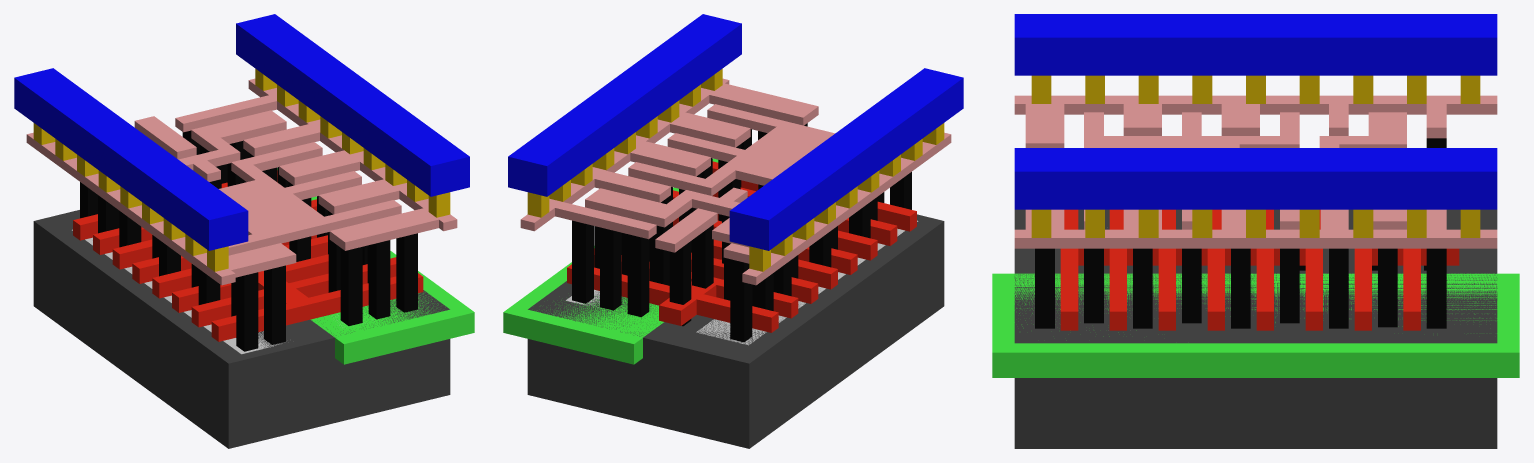
File: sky130_fd_sc_hd__buf_6.obj
3 renders of one model, left to right at view 1: azimuth 30°, elevation 25°; view 2: azimuth 150°, elevation 25°; view 3: azimuth 270°, elevation 25°, orthographic. The views are drawn at different scales.
Parts seen in each view (by area): view 1: subs, metal1, li, licon, poly, nwell, mcon, diff; view 2: subs, metal1, li, licon, poly, nwell, mcon, diff; view 3: metal1, subs, li, nwell, poly, licon, mcon.
Boxes of the visible parts, bbox=[...] form: subs: bbox=[33, 210, 450, 448]; metal1: bbox=[14, 14, 469, 250]; li: bbox=[26, 78, 457, 285]; licon: bbox=[80, 130, 417, 351]; poly: bbox=[73, 170, 423, 341]; nwell: bbox=[277, 168, 474, 364]; mcon: bbox=[33, 68, 450, 271]; diff: bbox=[72, 229, 282, 354]; subs: bbox=[527, 214, 944, 448]; metal1: bbox=[508, 14, 963, 250]; li: bbox=[520, 78, 951, 285]; licon: bbox=[572, 123, 911, 342]; poly: bbox=[567, 161, 916, 332]; nwell: bbox=[503, 158, 718, 364]; mcon: bbox=[527, 68, 944, 271]; diff: bbox=[696, 220, 918, 345]; metal1: bbox=[1014, 14, 1497, 209]; subs: bbox=[1014, 209, 1497, 448]; li: bbox=[1014, 95, 1497, 248]; nwell: bbox=[992, 273, 1519, 377]; poly: bbox=[1060, 209, 1459, 330]; licon: bbox=[1035, 138, 1446, 328]; mcon: bbox=[1031, 75, 1480, 237].
Size of the model in its own units: 3.2 by 2.74 by 4.52.
